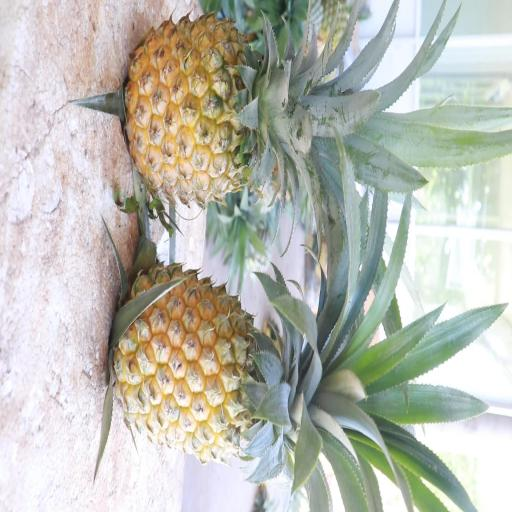Pineapple - v8 v1: (107, 261, 376, 471), (122, 10, 341, 214)
